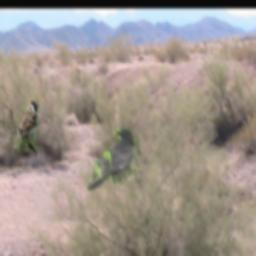Crow: (86, 129, 136, 191)
Sparrow: (13, 95, 38, 152)
